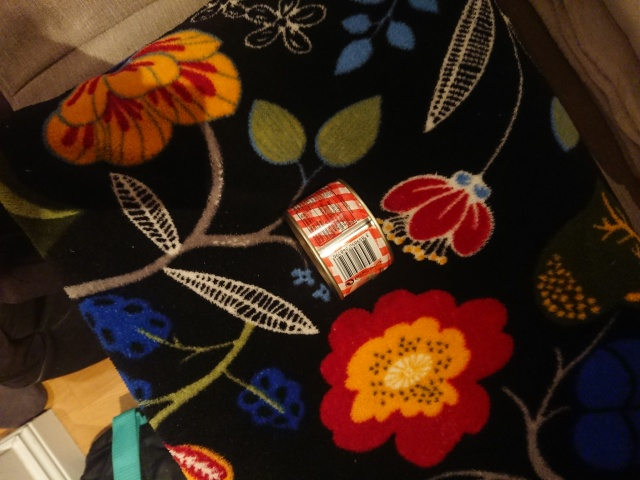Podravka Luncheon Meat 150g: (282, 174, 397, 303)
